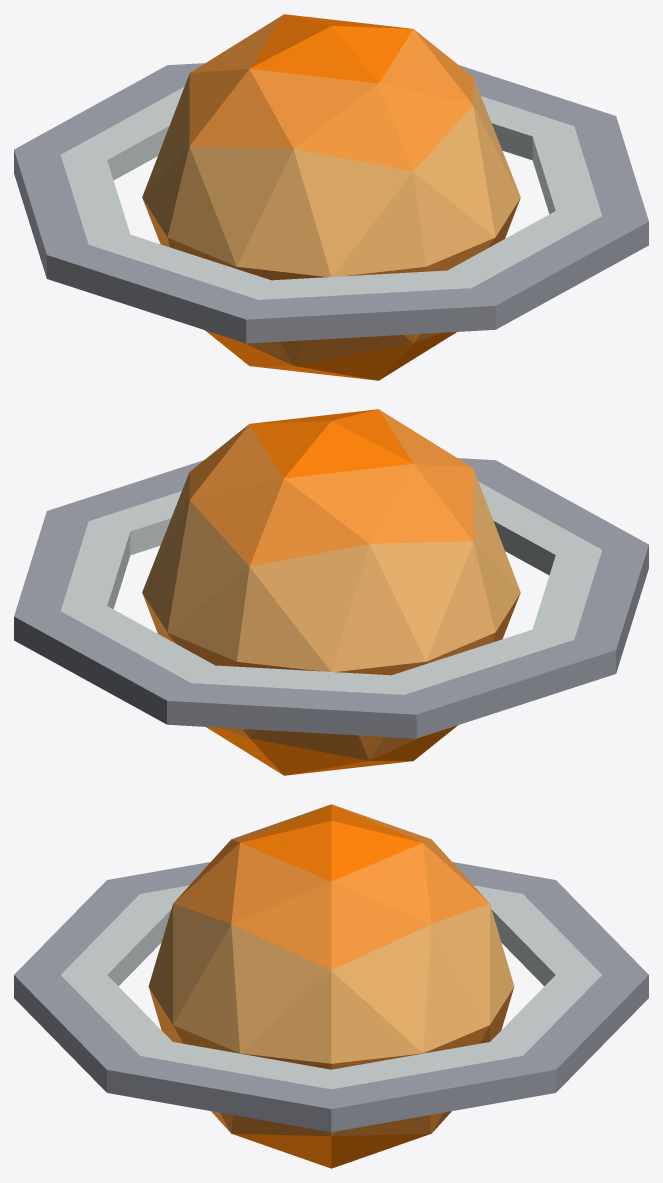
The model's file is planet01.FBX.
The picture shows the model from 3 angles, top to bottom: view 1: azimuth 30°, elevation 25°; view 2: azimuth 150°, elevation 25°; view 3: azimuth 270°, elevation 25°; orthographic projection. The views are drawn at different scales.
Parts seen in each view (by area): view 1: planet01; view 2: planet01; view 3: planet01.
Part boxes in pixels (x1,y1,x2,y2): planet01: [14, 14, 648, 380]; planet01: [14, 409, 648, 775]; planet01: [14, 804, 648, 1168].
Bounding box in the file's own units: 29.47 × 16.98 × 29.47.
